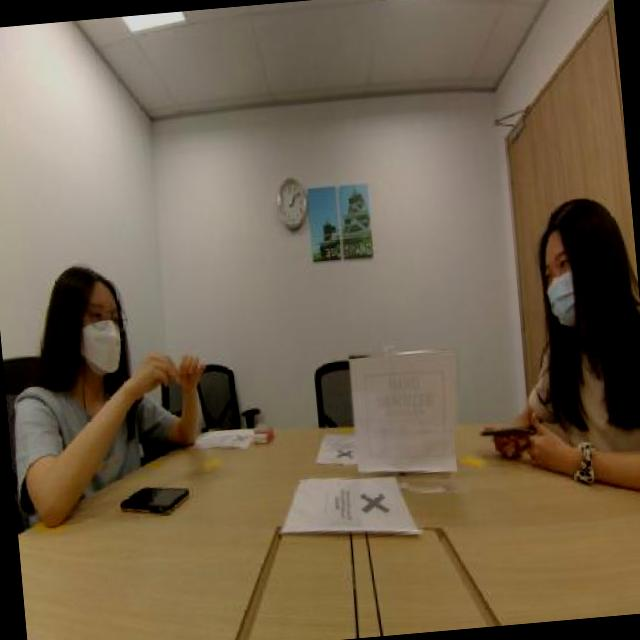Person: (9, 235, 188, 492), (509, 168, 640, 445)
